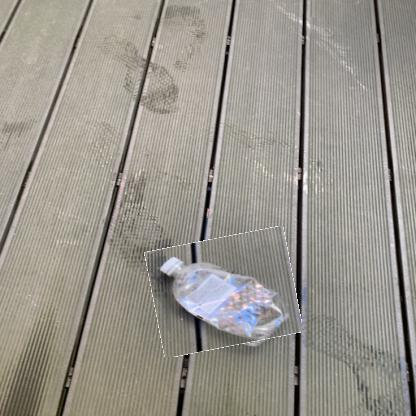plastic-bottles: (150, 233, 299, 353)
